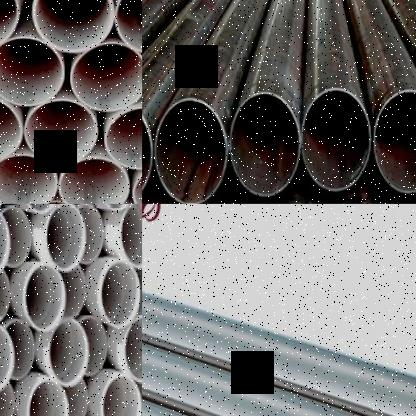pipe: (227, 90, 302, 199), (154, 97, 230, 204), (300, 86, 372, 195), (69, 42, 142, 112), (371, 86, 416, 196), (24, 100, 98, 164), (0, 37, 65, 107), (32, 0, 115, 54), (58, 157, 130, 204), (0, 153, 58, 204), (23, 264, 66, 332), (46, 204, 86, 272), (50, 318, 89, 387), (100, 261, 140, 328), (104, 107, 142, 169), (2, 206, 32, 268), (6, 321, 36, 380), (101, 376, 141, 416), (27, 379, 69, 416), (77, 204, 103, 263), (81, 316, 106, 377), (0, 96, 23, 160), (115, 0, 142, 53), (121, 204, 142, 268), (126, 316, 142, 382), (0, 323, 15, 393), (65, 379, 87, 416), (0, 207, 10, 277), (0, 380, 18, 416), (0, 269, 11, 323), (135, 263, 142, 317), (133, 376, 142, 416)
